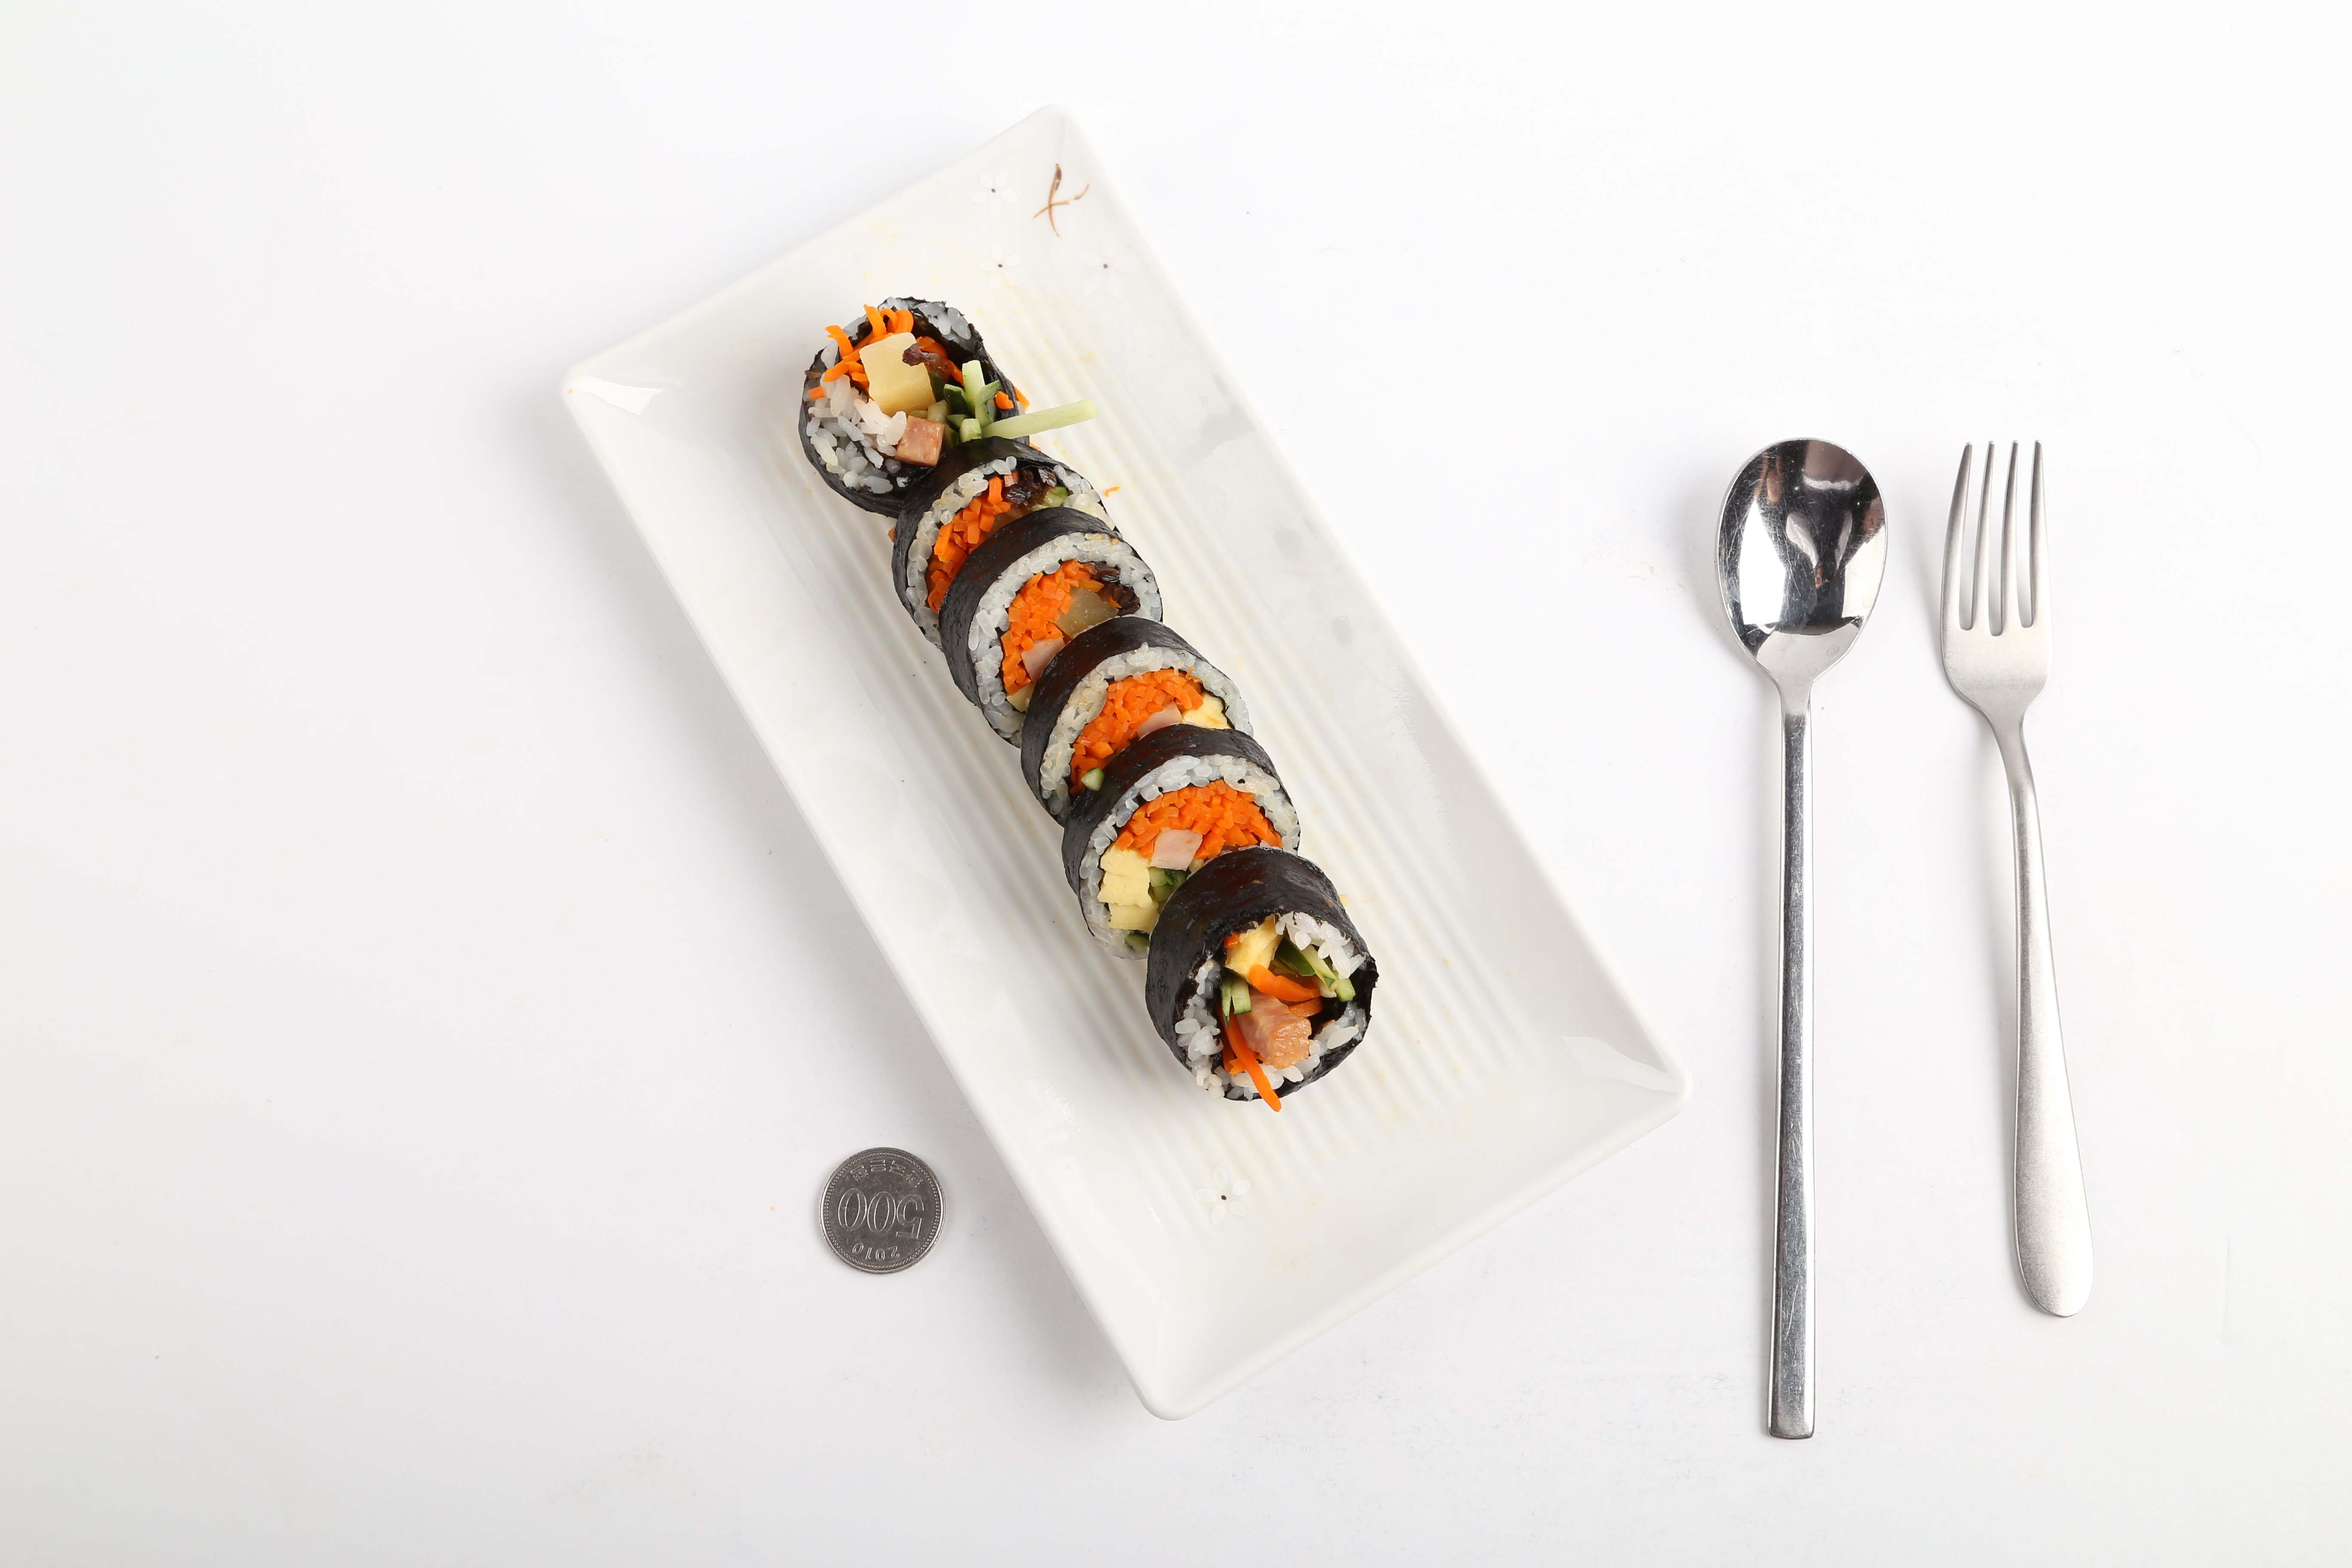dish: (572, 107, 1687, 1412)
ref_coin: (812, 1137, 950, 1279)
ref_fork: (1934, 434, 2058, 761)
ref_spoon: (1708, 425, 1890, 738)
김밥: (798, 289, 1382, 1108)
